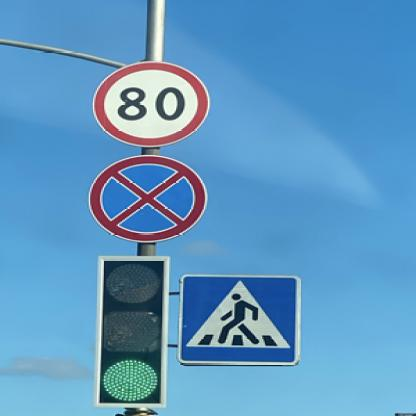crosswalk: (176, 272, 300, 364)
speedlimit: (90, 60, 209, 147)
trafficlight: (93, 254, 168, 406)
